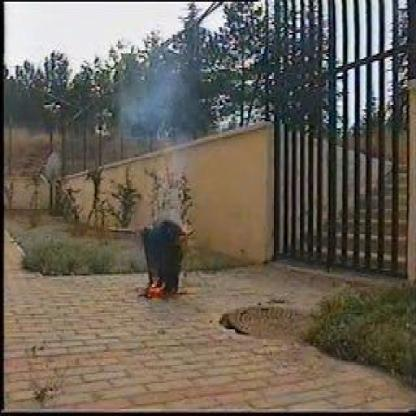-: (122, 62, 192, 134)
foggia-v2-map80-epoch100 - v1 4323: (142, 276, 171, 301)
